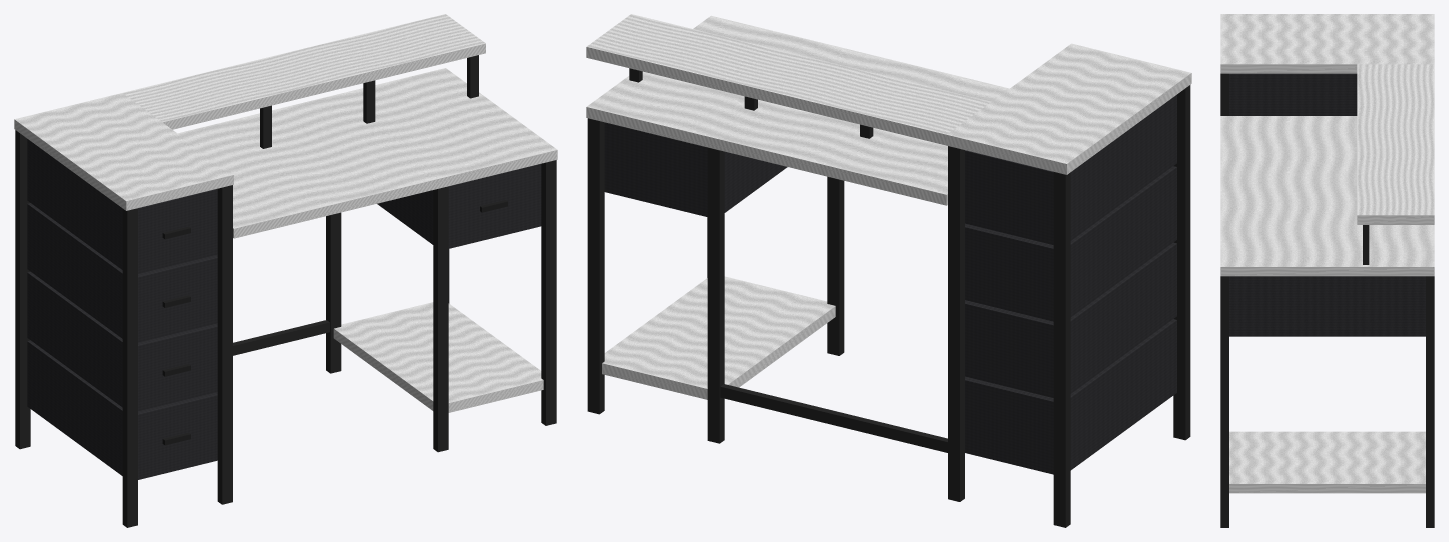
3 renders of one model, left to right at view 1: azimuth 30°, elevation 25°; view 2: azimuth 150°, elevation 25°; view 3: azimuth 270°, elevation 25°, orthographic. The views are drawn at different scales.
Parts seen in each view (by area): view 1: 1 main_desktop, 3 monitor_riser, 2 left_cabinet_top, 13 cpu_shelf, 9 left_drawer_2, 10 left_drawer_3, 11 left_drawer_4, 8 left_drawer_1, 12 right_drawer, 14 leg_left_front_outer, 15 leg_left_front_inner, 16 leg_left_back_outer (+4 smaller); view 2: 1 main_desktop, 3 monitor_riser, 2 left_cabinet_top, 9 left_drawer_2, 11 left_drawer_4, 10 left_drawer_3, 13 cpu_shelf, 8 left_drawer_1, 12 right_drawer, 16 leg_left_back_outer, 17 leg_left_back_inner, 21 leg_right_back_outer (+4 smaller); view 3: 1 main_desktop, 3 monitor_riser, 13 cpu_shelf, 2 left_cabinet_top, 12 right_drawer, 8 left_drawer_1, 19 leg_right_front_outer, 21 leg_right_back_outer, 15 leg_left_front_inner, 7 riser_support_4.
Part boxes in pixels (box(x1,y1,x2,y2)): 1 main_desktop: box(178, 68, 557, 238); 3 monitor_riser: box(122, 14, 485, 129); 2 left_cabinet_top: box(14, 93, 233, 210); 13 cpu_shelf: box(333, 302, 543, 412); 9 left_drawer_2: box(27, 203, 217, 342); 10 left_drawer_3: box(27, 271, 217, 411); 11 left_drawer_4: box(27, 340, 217, 479); 8 left_drawer_1: box(27, 139, 217, 273); 12 right_drawer: box(377, 164, 541, 248); 14 leg_left_front_outer: box(122, 208, 137, 527); 15 leg_left_front_inner: box(217, 185, 232, 504); 16 leg_left_back_outer: box(15, 130, 30, 449); 1 main_desktop: box(586, 15, 1009, 205); 3 monitor_riser: box(586, 14, 990, 145); 2 left_cabinet_top: box(946, 43, 1191, 174); 9 left_drawer_2: box(965, 166, 1176, 321); 11 left_drawer_4: box(965, 319, 1176, 474); 10 left_drawer_3: box(965, 242, 1176, 397); 13 cpu_shelf: box(602, 276, 835, 399); 8 left_drawer_1: box(965, 94, 1176, 244); 12 right_drawer: box(604, 122, 787, 216); 16 leg_left_back_outer: box(1053, 172, 1070, 527); 17 leg_left_back_inner: box(948, 146, 964, 501); 21 leg_right_back_outer: box(587, 118, 604, 414); 1 main_desktop: box(1220, 116, 1434, 276); 3 monitor_riser: box(1357, 64, 1434, 224); 13 cpu_shelf: box(1229, 431, 1425, 493); 2 left_cabinet_top: box(1220, 14, 1434, 73); 12 right_drawer: box(1229, 276, 1425, 336); 8 left_drawer_1: box(1229, 73, 1357, 115); 19 leg_right_front_outer: box(1220, 276, 1228, 527); 21 leg_right_back_outer: box(1426, 276, 1434, 527); 15 leg_left_front_inner: box(1220, 73, 1228, 115); 7 riser_support_4: box(1363, 225, 1369, 264).
Size of the model in its own units: 1.38 by 1 by 0.62.
4 materials, 2 textured.
